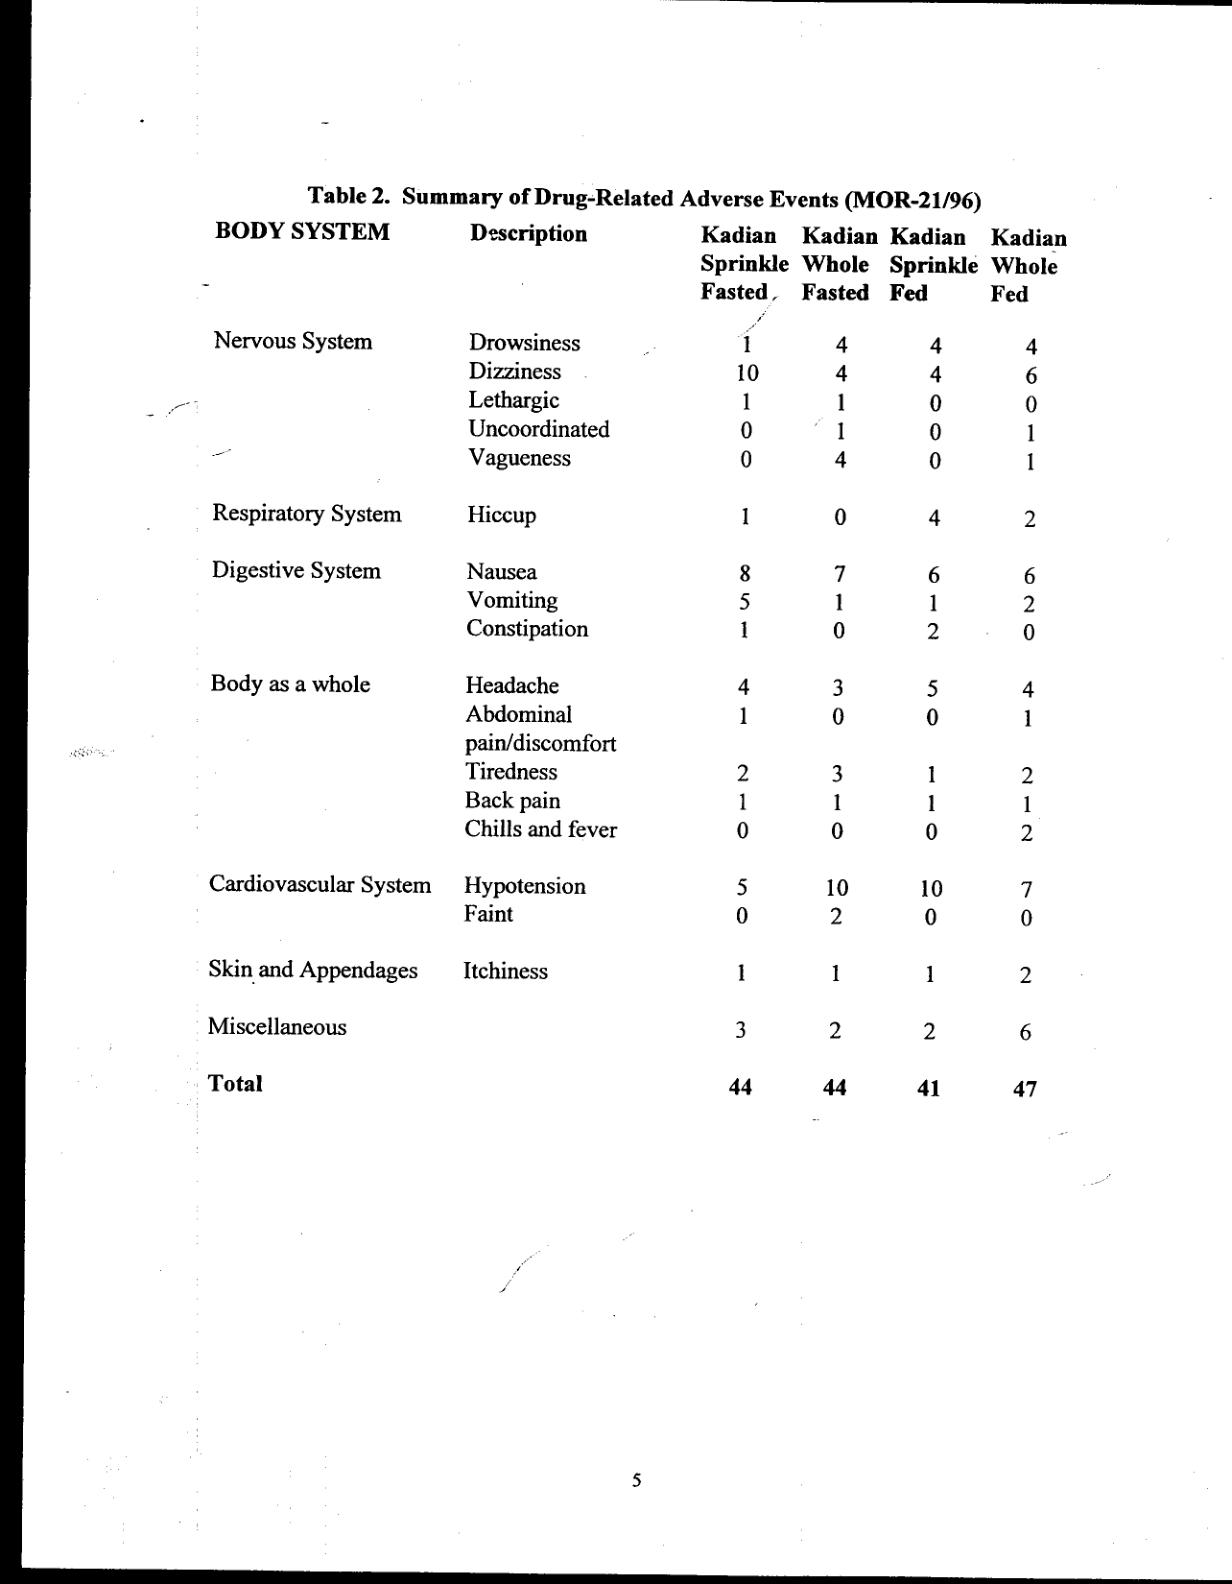nolines: (206, 211, 1073, 1103)
